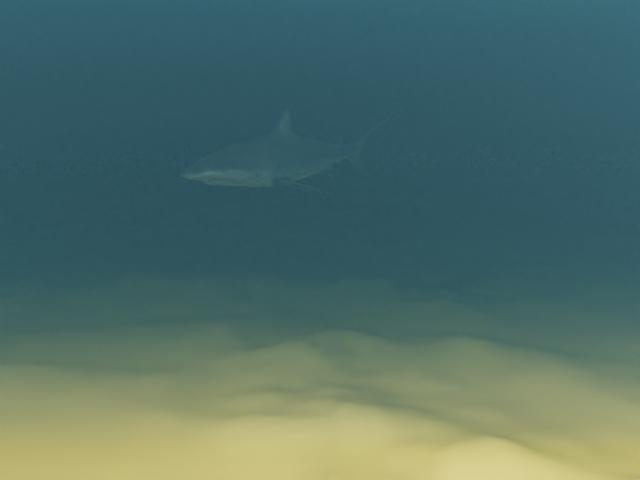Carribean Shark.001: (180, 104, 400, 194)
